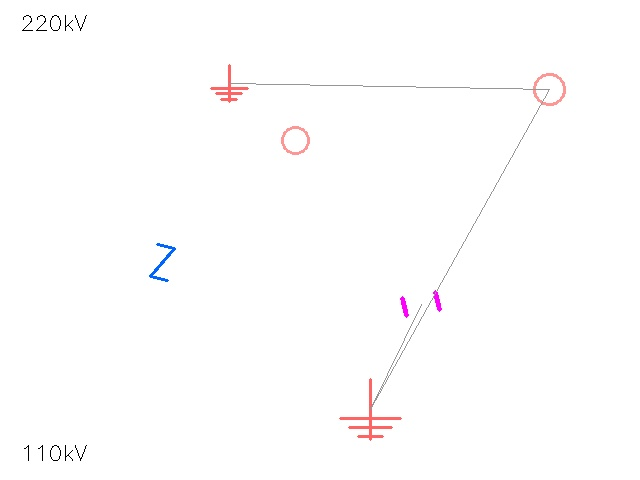capacitor: (393, 276, 449, 332)
circuit_breaker: (144, 244, 180, 280)
ground: (340, 379, 400, 439), (211, 65, 247, 101)
surge_arrester: (519, 59, 579, 119), (268, 113, 322, 167)
